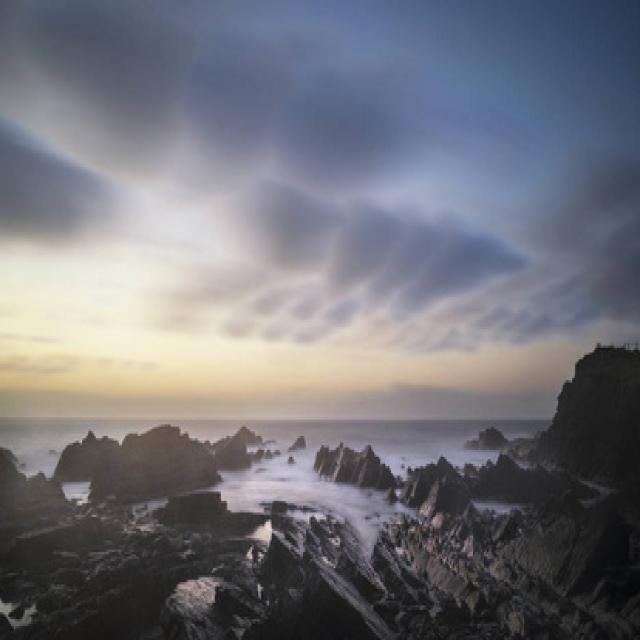reef: (0, 429, 408, 635)
